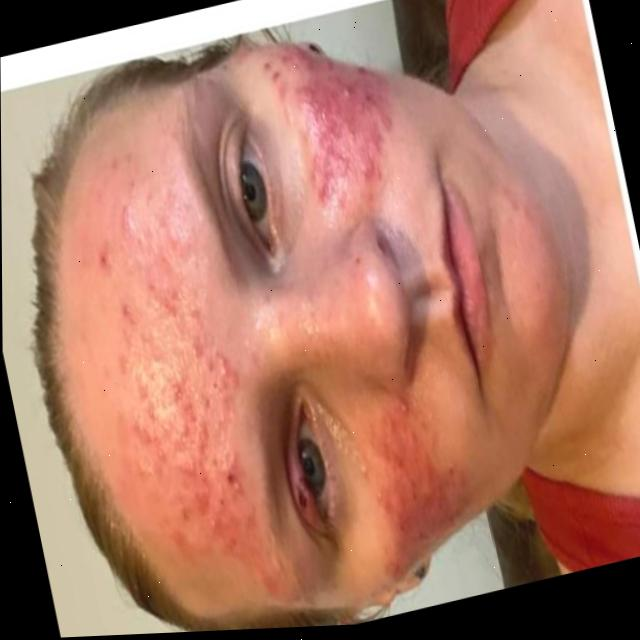Rosacea: (94, 189, 250, 536), (350, 384, 502, 581), (275, 42, 400, 193)
